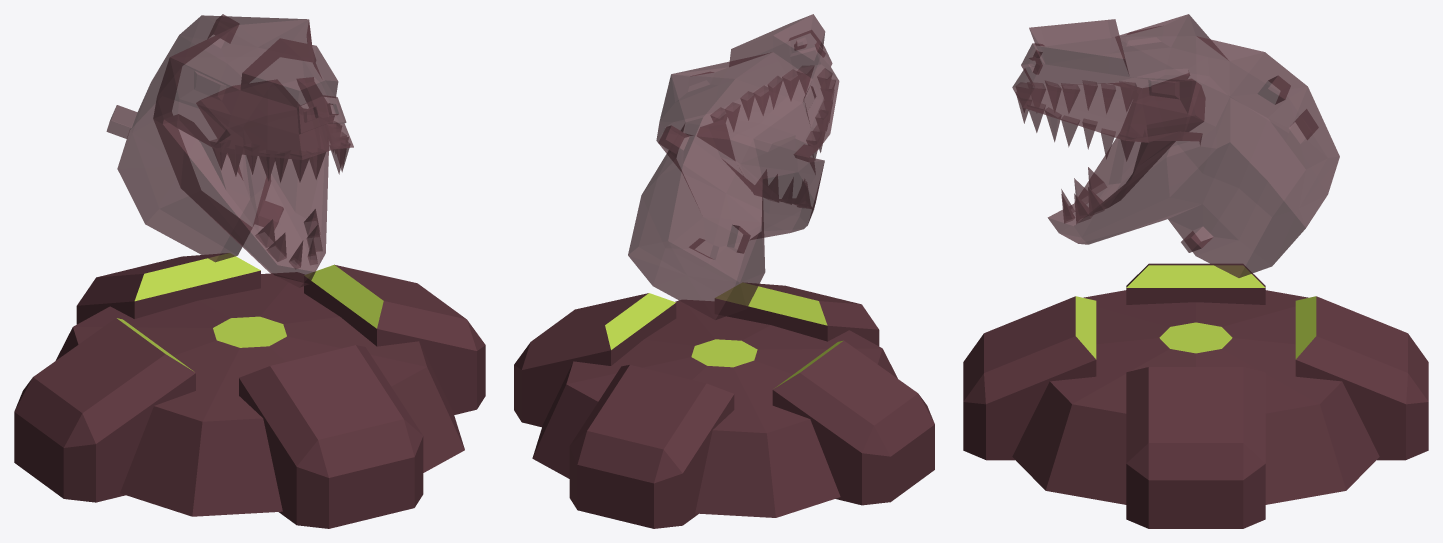
File: scifi-hologram-monster.fbx
The picture shows the model from 3 angles, left to right: view 1: azimuth 30°, elevation 25°; view 2: azimuth 150°, elevation 25°; view 3: azimuth 270°, elevation 25°; orthographic projection. The views are drawn at different scales.
Visible parts, largest first — view 1: scifi-hologram-monster; view 2: scifi-hologram-monster; view 3: scifi-hologram-monster.
Part boxes in pixels (x1,y1,x2,y2): scifi-hologram-monster: (14, 14, 485, 528); scifi-hologram-monster: (514, 14, 934, 528); scifi-hologram-monster: (963, 14, 1428, 528).
Size of the model in its own units: 1.4 by 1.35 by 1.4.
